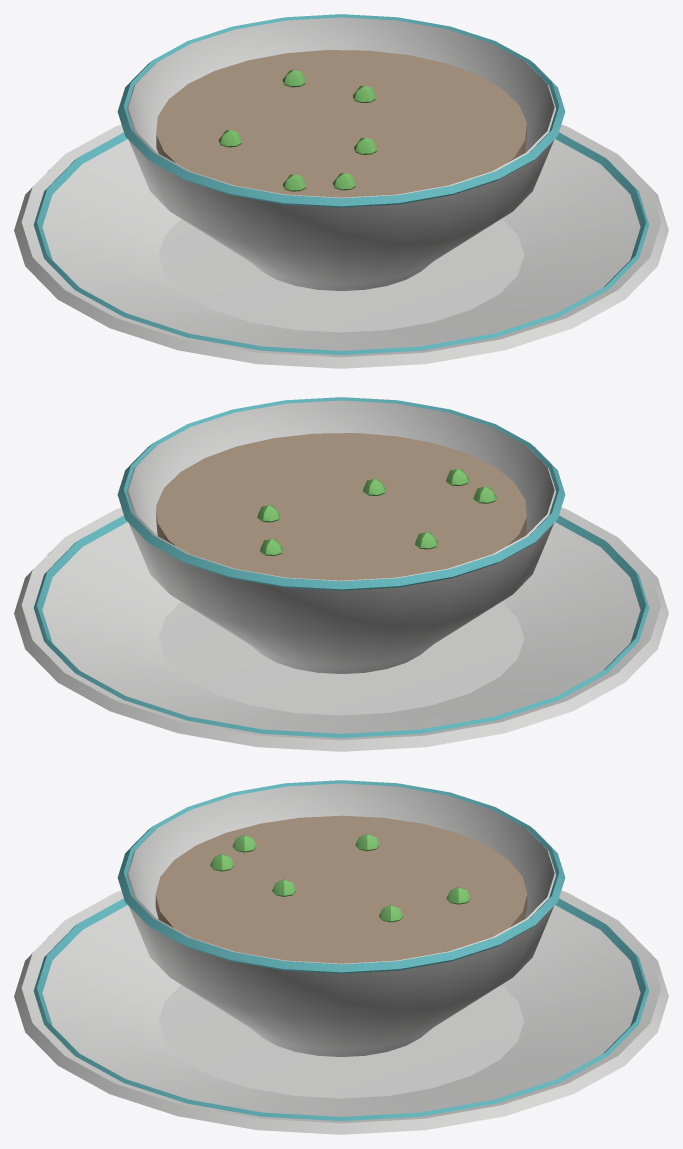
The model's file is kr_dish_mushroom.glb.
3 renders of one model, top to bottom at view 1: azimuth 30°, elevation 25°; view 2: azimuth 150°, elevation 25°; view 3: azimuth 270°, elevation 25°, orthographic.
Parts seen in each view (by area): view 1: vc_m0_r2, vc_m0_r4, vc_m0_r6; view 2: vc_m0_r2, vc_m0_r4, vc_m0_r6; view 3: vc_m0_r2, vc_m0_r4, vc_m0_r6.
Part boxes in pixels (<box>): vc_m0_r2: <box>14,17,668,368</box>; vc_m0_r4: <box>33,14,649,354</box>; vc_m0_r6: <box>218,70,377,191</box>; vc_m0_r2: <box>14,400,668,751</box>; vc_m0_r4: <box>33,397,649,737</box>; vc_m0_r6: <box>257,469,496,555</box>; vc_m0_r2: <box>14,783,668,1134</box>; vc_m0_r4: <box>33,780,649,1120</box>; vc_m0_r6: <box>210,833,470,922</box>.
Bounding box in the file's own units: 0.43 × 0.126 × 0.43.
